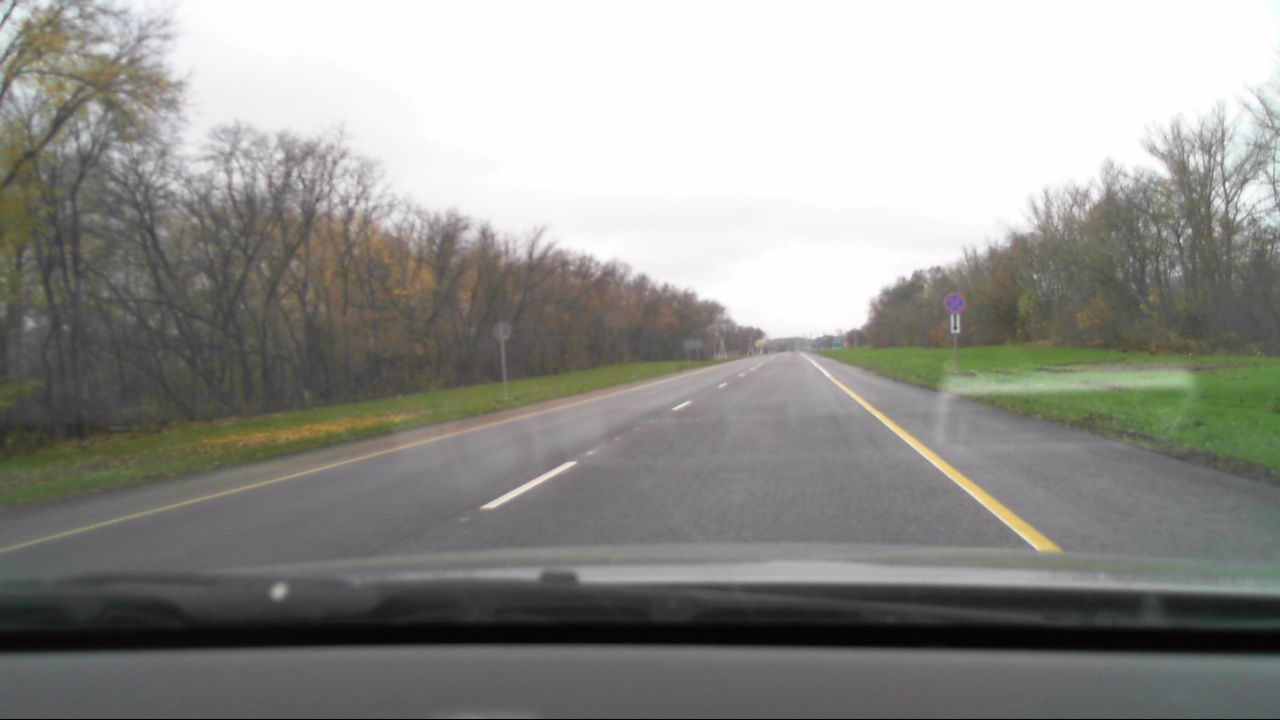No Parking: (942, 290, 967, 313)
